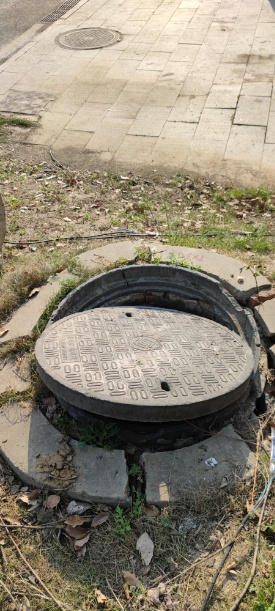uncovered: (31, 260, 260, 420)
